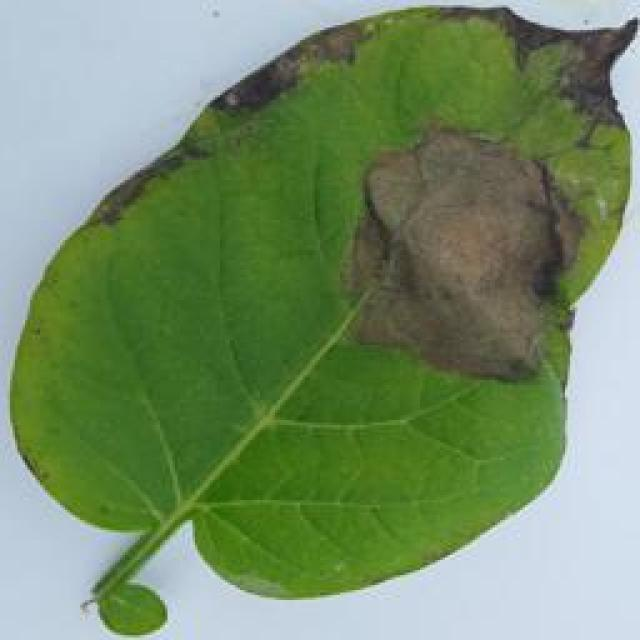Potato_Late_Blight: (7, 5, 640, 640)
